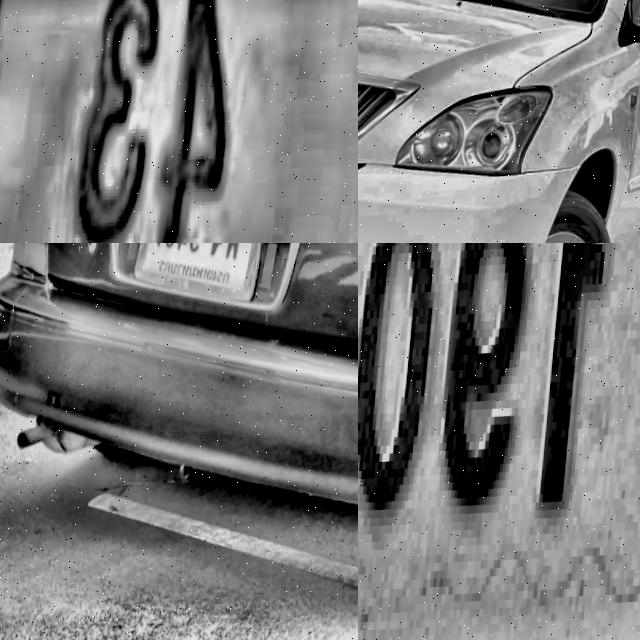license-plate: (358, 243, 640, 640), (0, 0, 358, 243), (131, 243, 270, 321)
